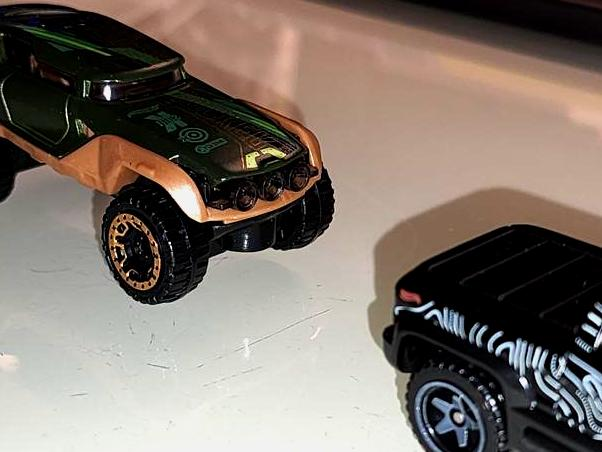toy-car: (0, 0, 336, 307), (381, 223, 602, 452)
